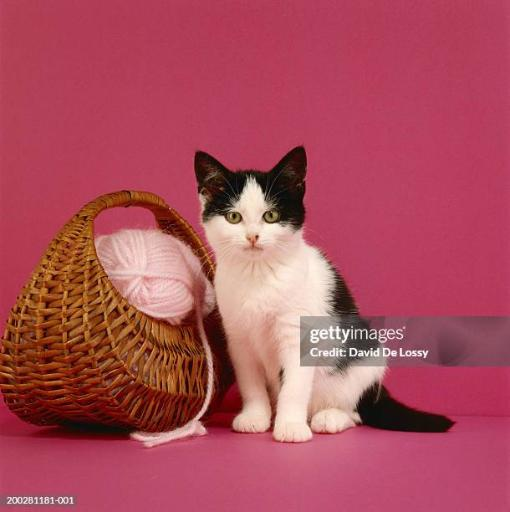cat_sitting: (194, 146, 453, 442)
